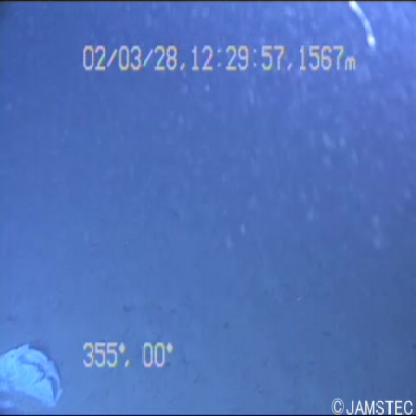Rác: (1, 324, 62, 412)
